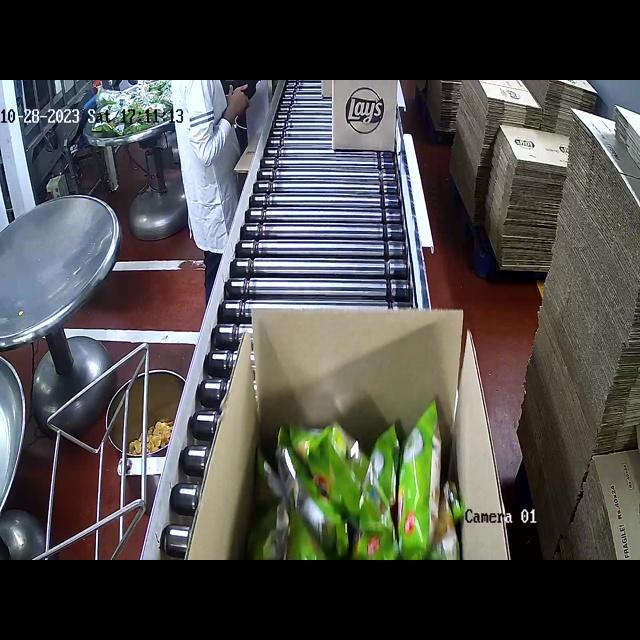yogurt: (258, 403, 456, 560)
